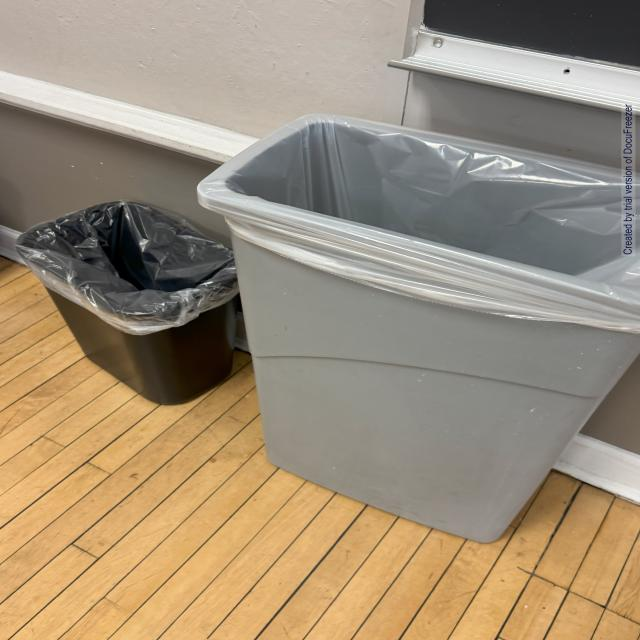Trash bin: (200, 104, 640, 556), (0, 184, 255, 416)
